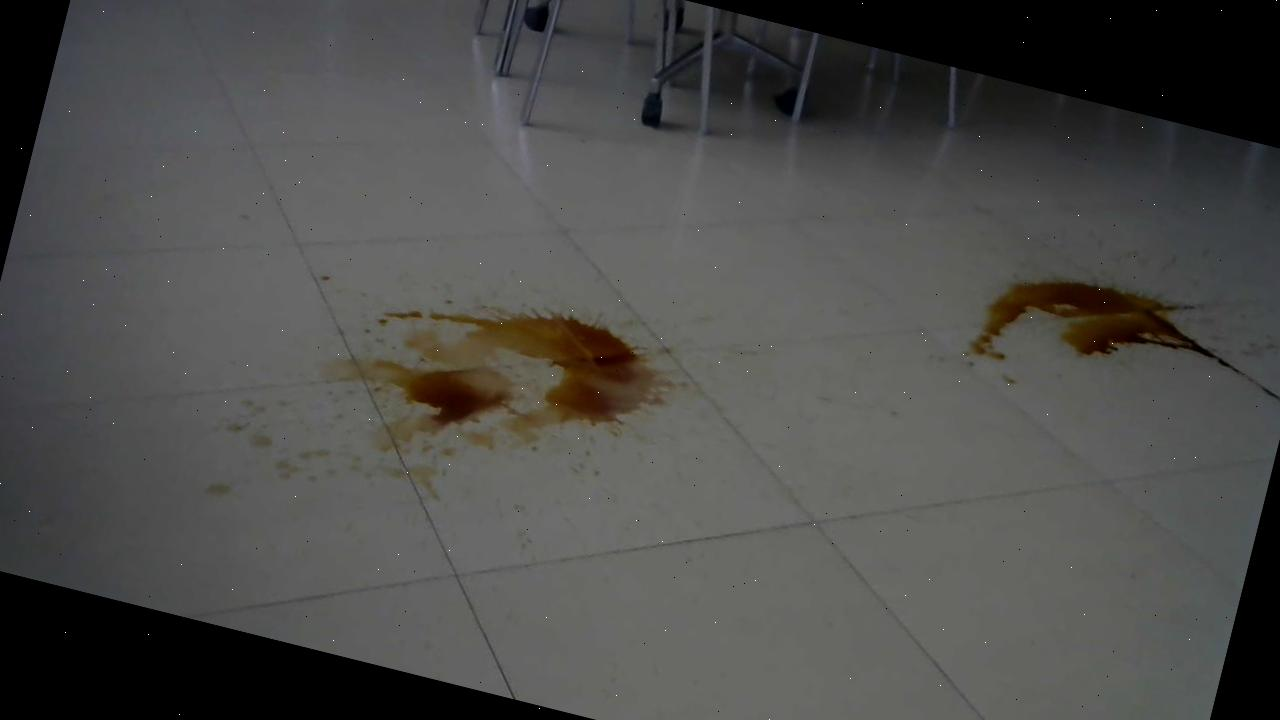dirty_floor: (272, 226, 719, 542), (944, 233, 1270, 446)
